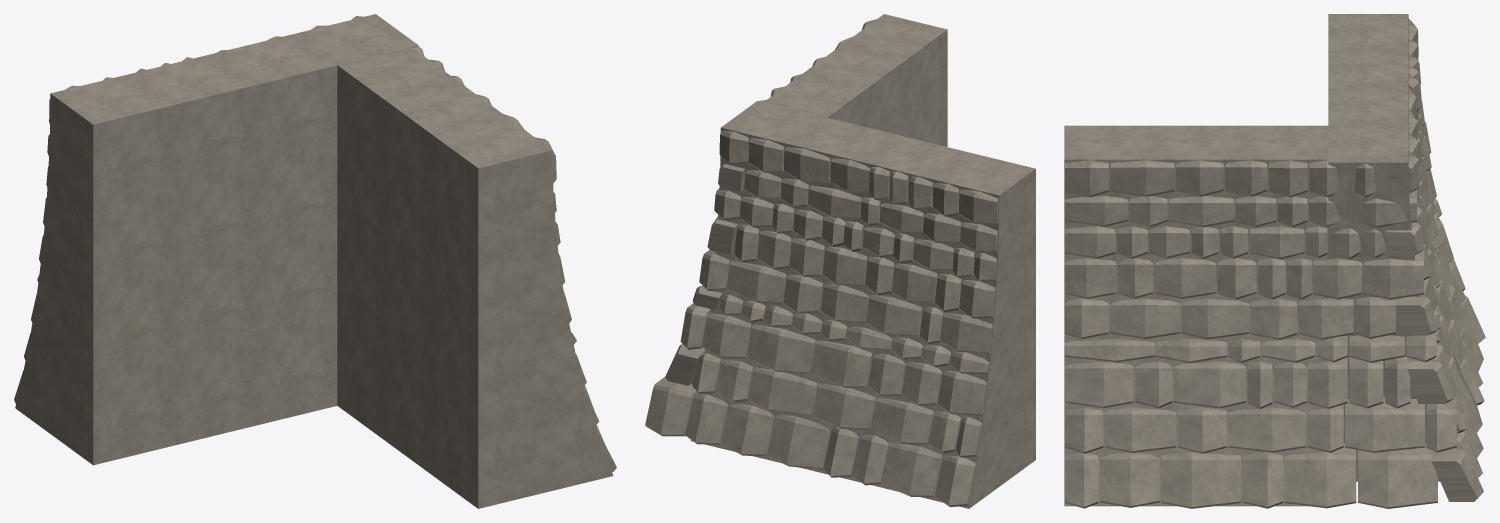
Rendered from HO_Wall_Ishigaki_Corner_Outer.fbx.
3 views of the same model, side by side, from view 1: azimuth 30°, elevation 25°; view 2: azimuth 150°, elevation 25°; view 3: azimuth 270°, elevation 25° (orthographic). The views are drawn at different scales.
Visible parts, largest first — view 1: HO_Wall_Ishigaki_Corner_Outer; view 2: HO_Wall_Ishigaki_Corner_Outer; view 3: HO_Wall_Ishigaki_Corner_Outer.
Boxes of the visible parts, x1=… form: HO_Wall_Ishigaki_Corner_Outer: x1=14, y1=14, x2=616, y2=508; HO_Wall_Ishigaki_Corner_Outer: x1=645, y1=14, x2=1035, y2=508; HO_Wall_Ishigaki_Corner_Outer: x1=1064, y1=14, x2=1485, y2=508.
Size of the model in its own units: 19.16 by 16 by 19.17.
